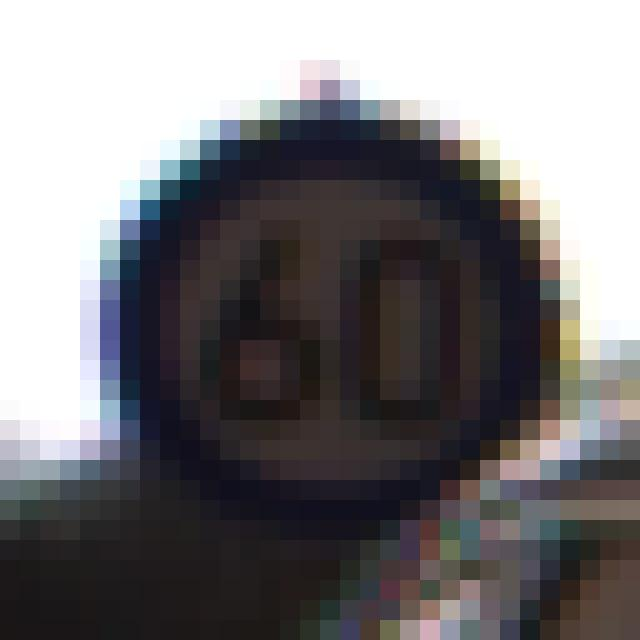SPEED-LIMIT-60: (94, 90, 573, 541)
